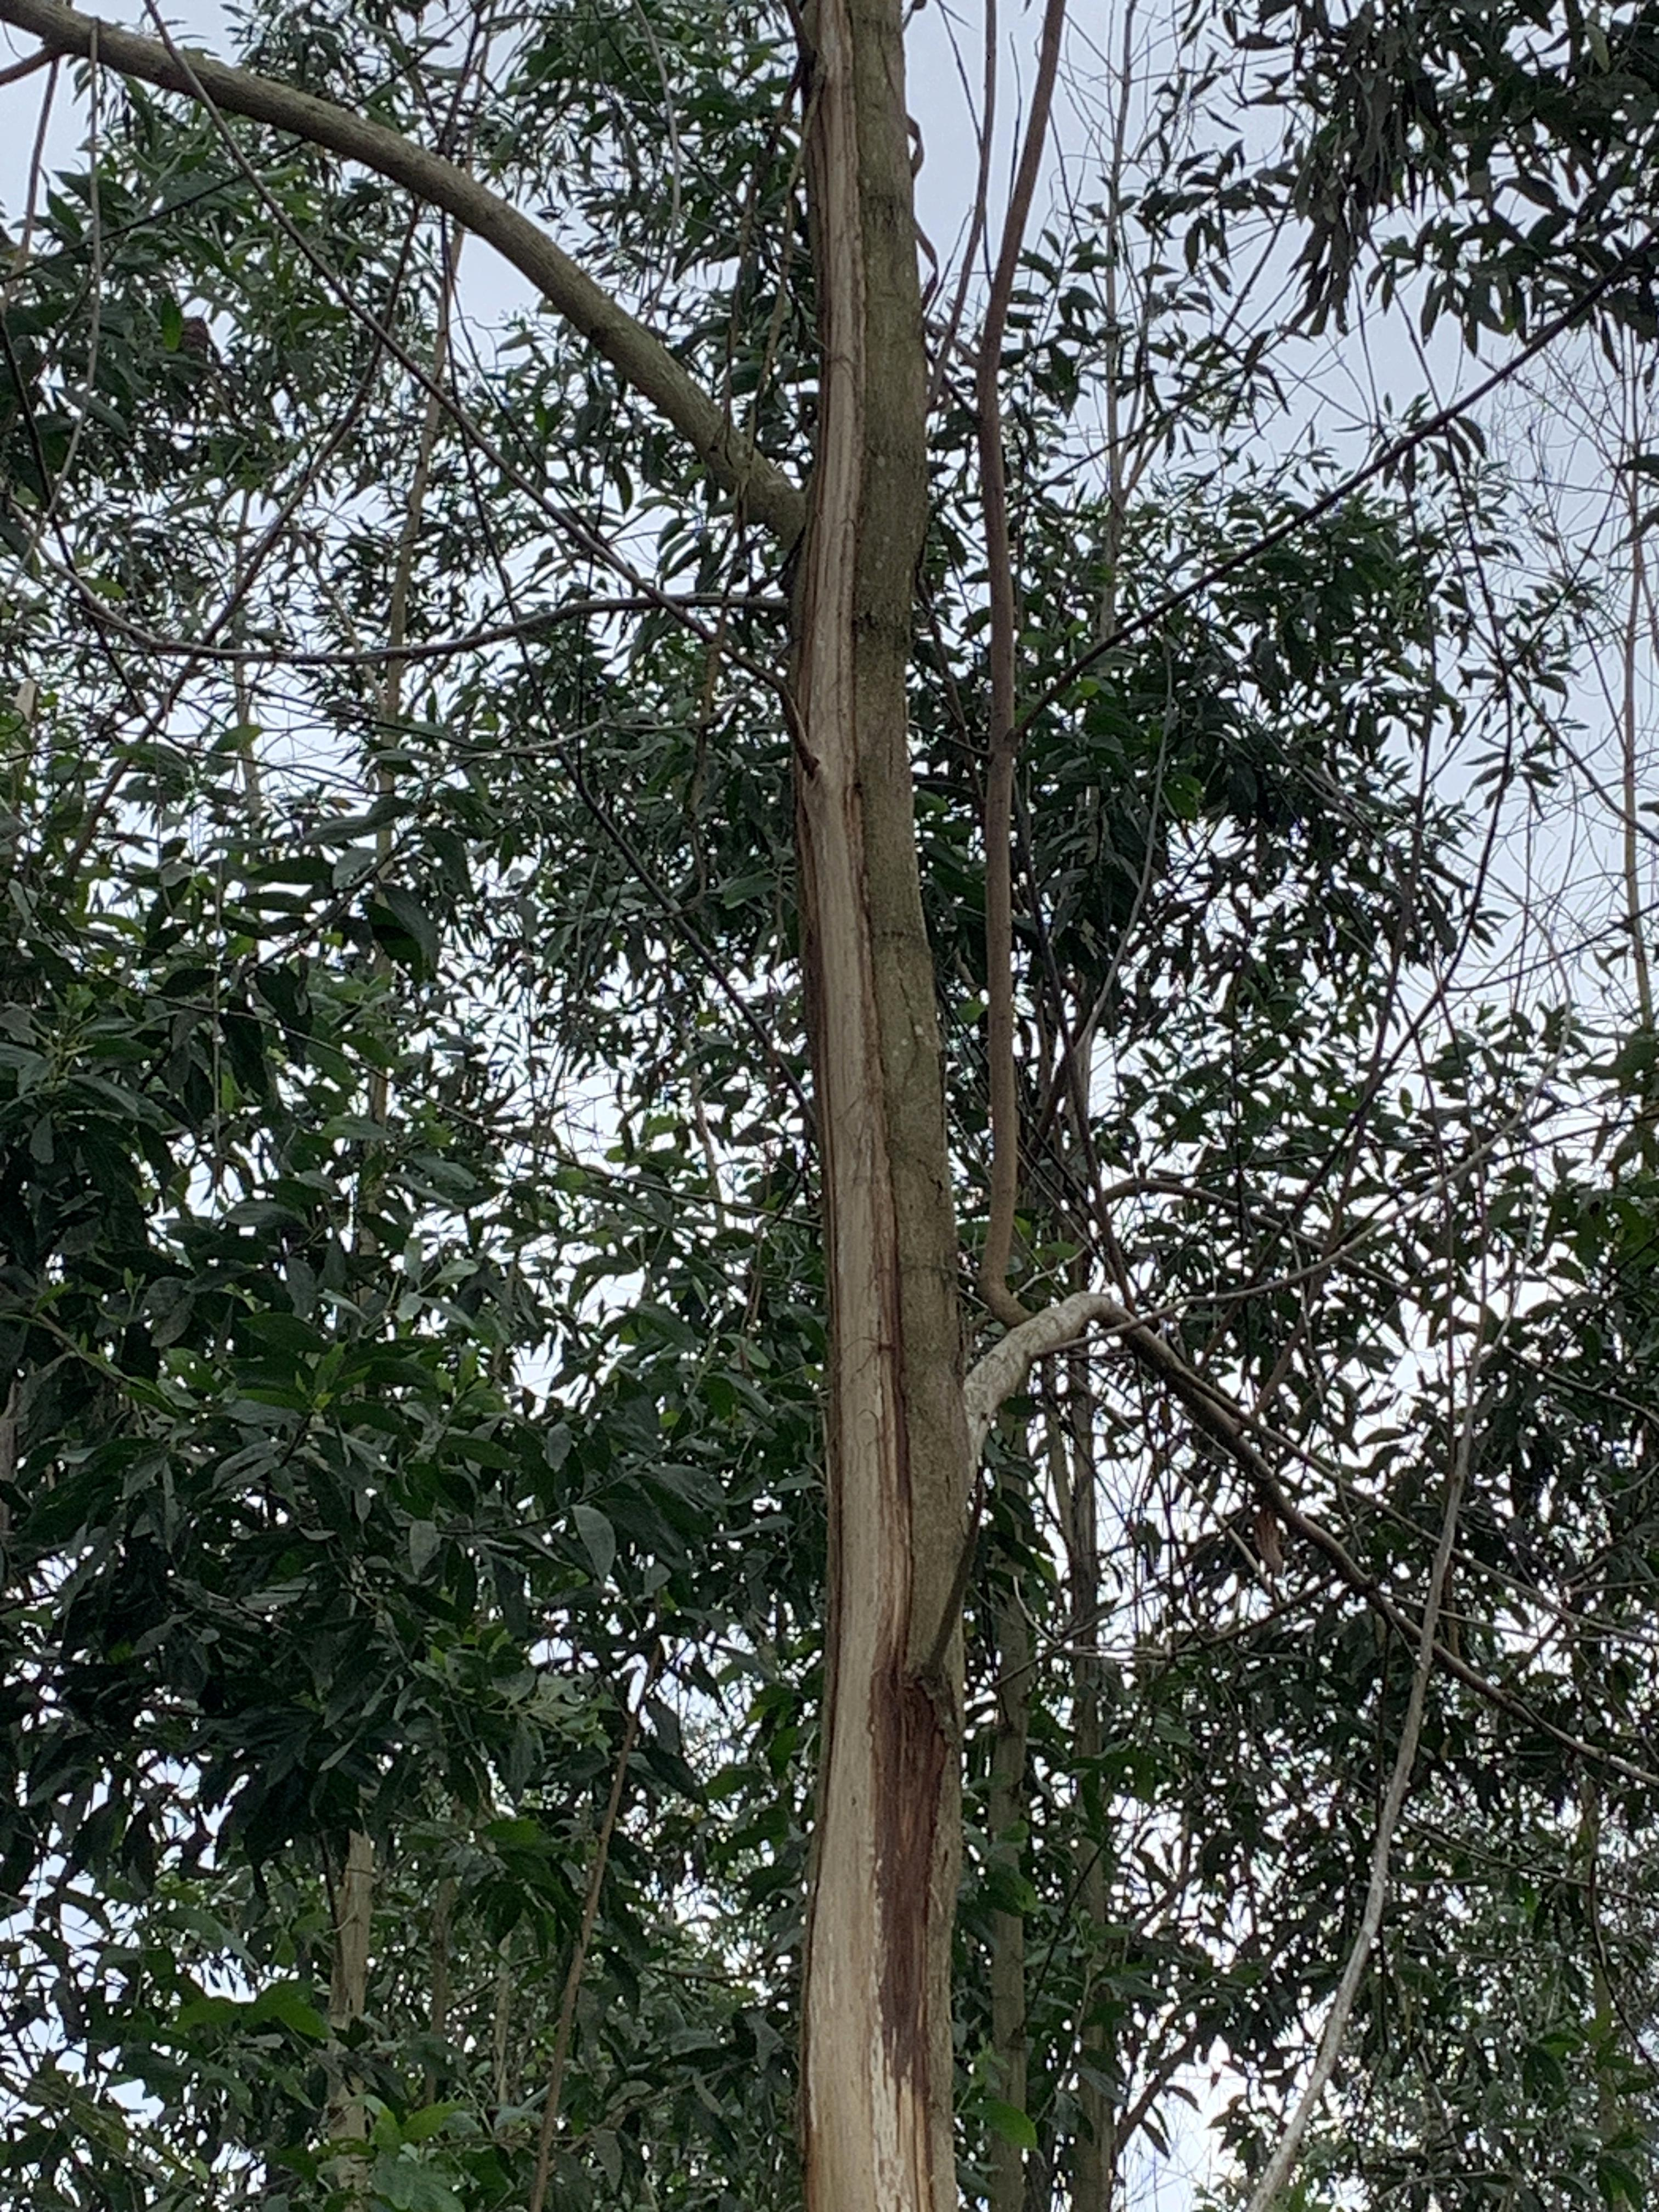Mammals Attack: (732, 21, 972, 2207)
